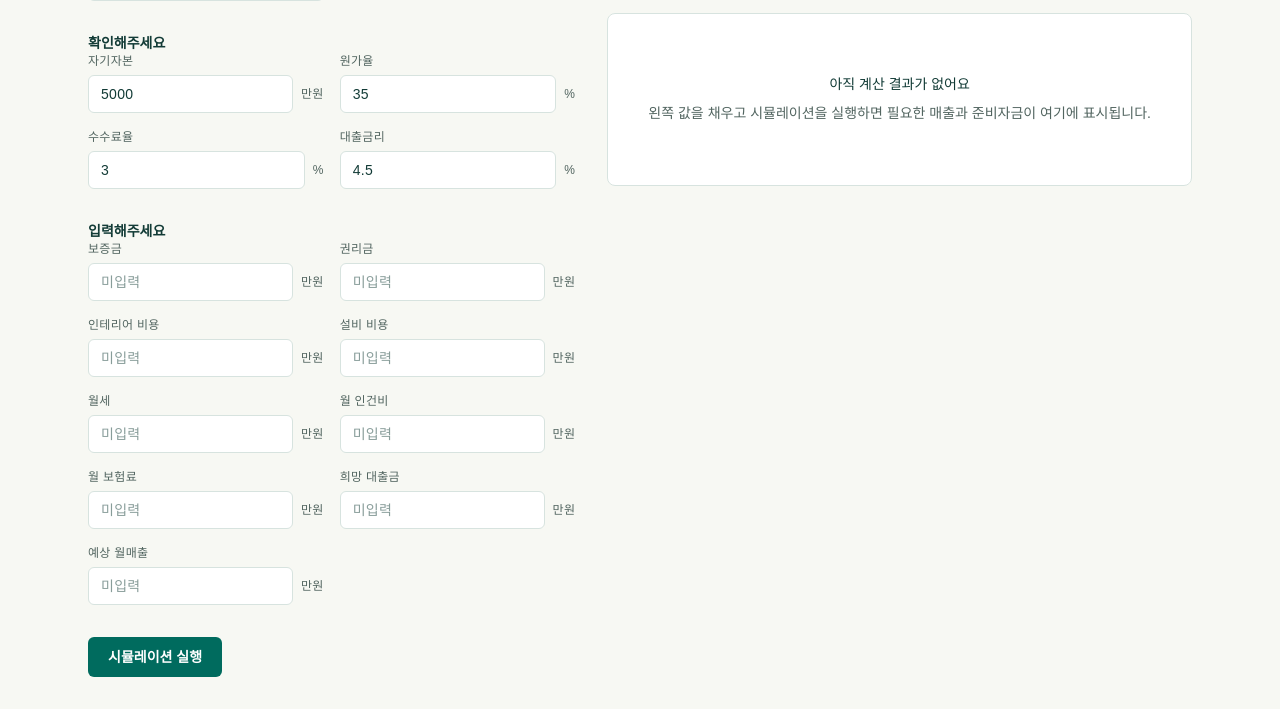
Test case: 폼을 고치고 아직 계산하지 않았으면 이전 결과임을 알리고 선택을 막는다
(page scrolled)
Click the button "시뮬레이션 실행" at (155, 657), box [88,637,222,677]
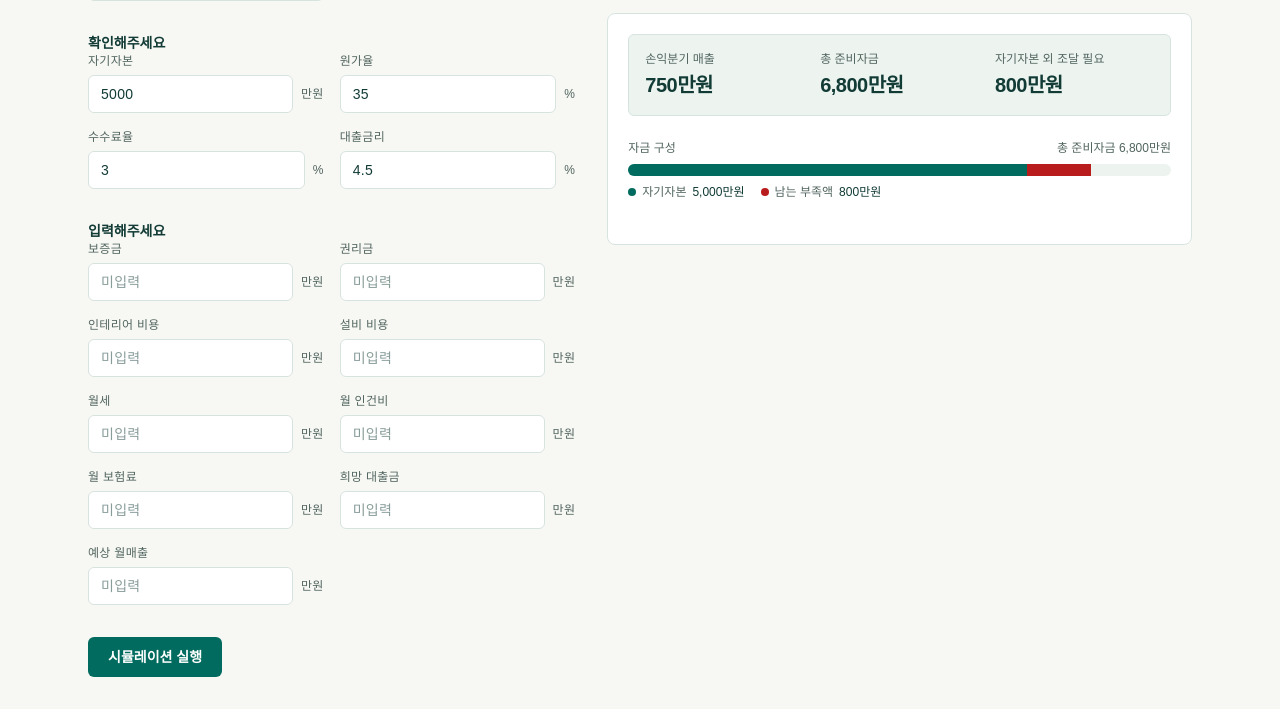
Expected: the text "자기자본 외 조달 필요" is shown, [995,52,1104,66]
Type "100" into the number field labelled "월세 만원" at (190, 434), box [88,415,293,453]
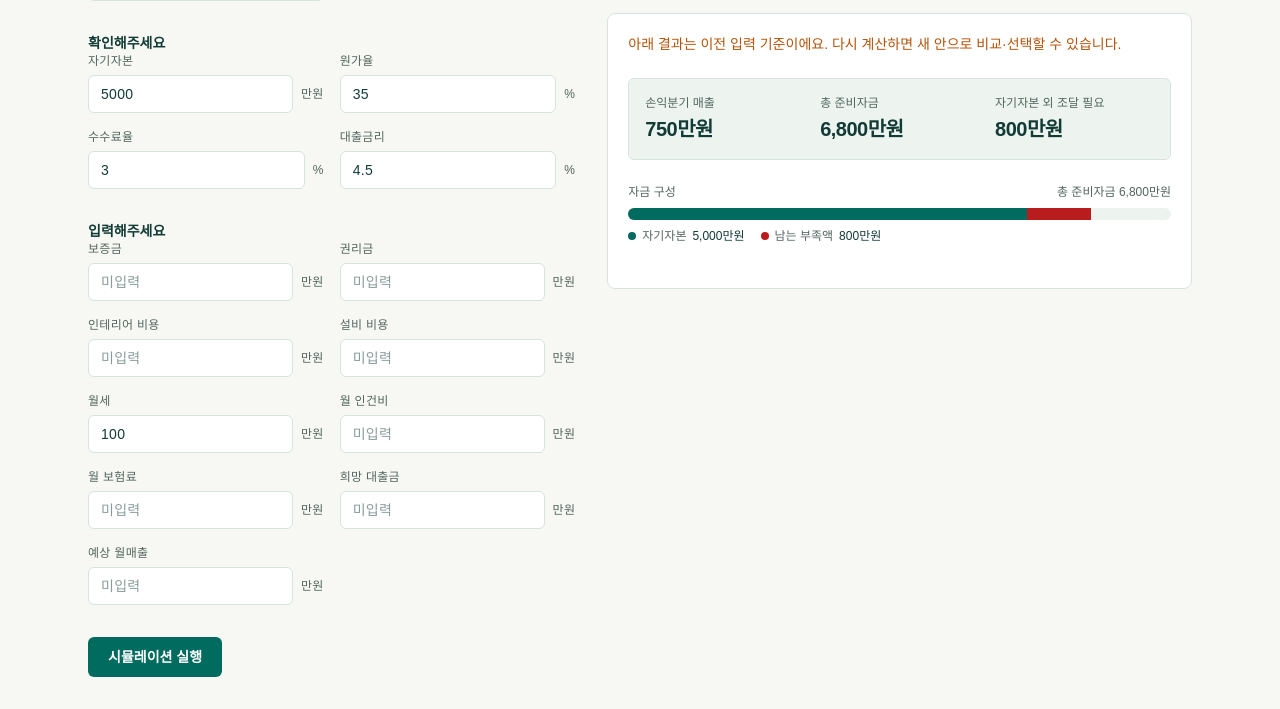
Click the button "시뮬레이션 실행" at (155, 657), box [88,637,222,677]
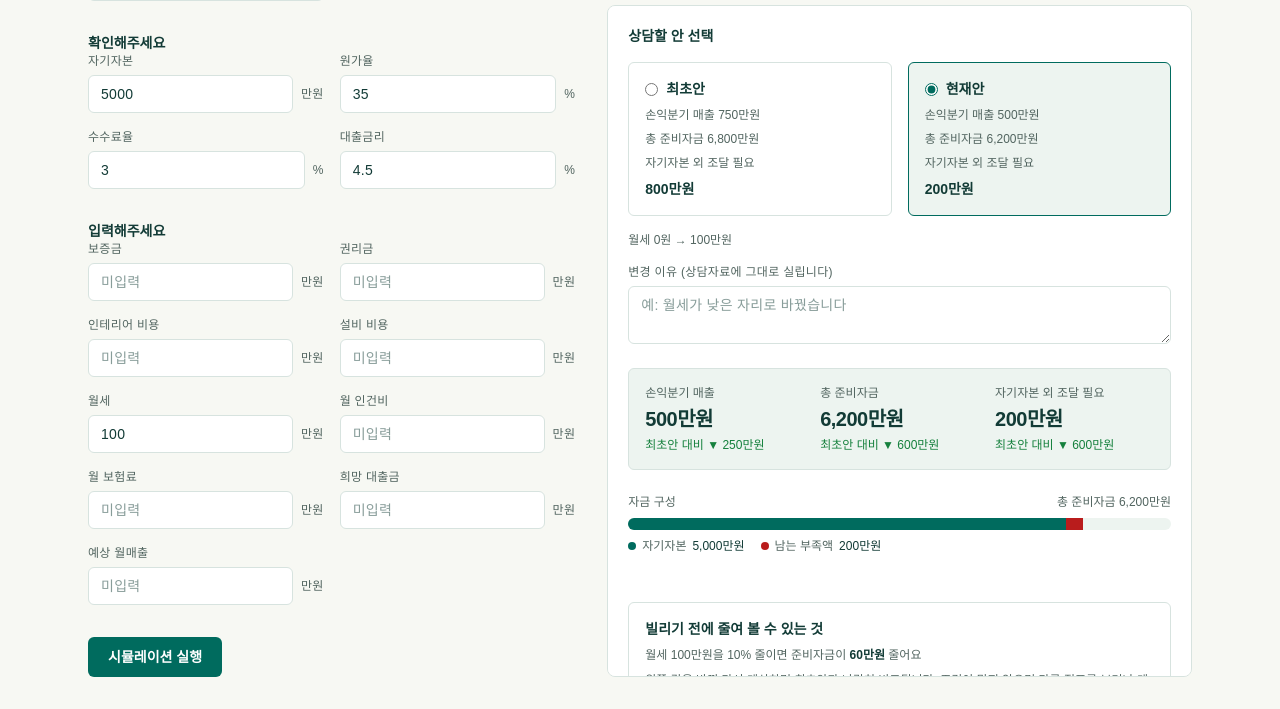
Expected: the radio button labelled "현재안 손익분기 매출 500만원 총 준비자금 6,200만원 자기자본 외 조달 필요 200만원" is checked, [925,82,938,96]
Replace the text in the number field labelled "월세 만원" with "150" at (190, 434), box [88,415,293,453]
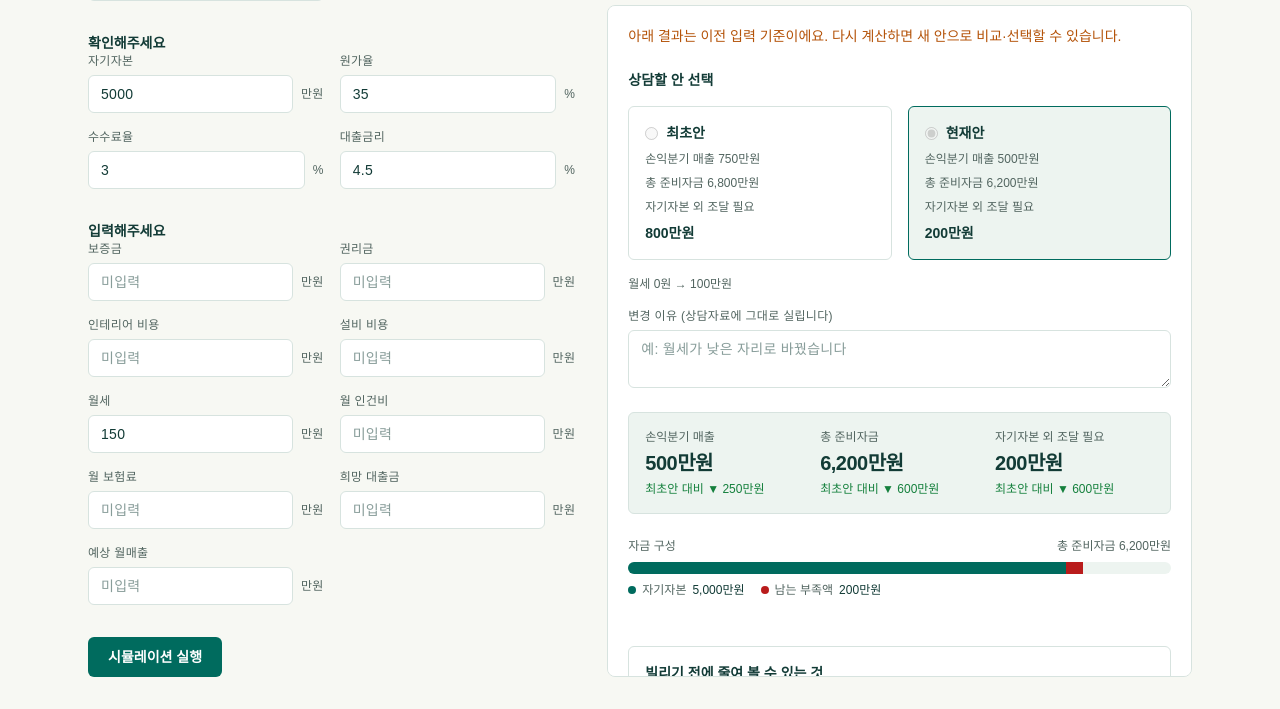
Expected: the message shows "이전 입력 기준", [628,28,1122,44]
Expected: the radio button labelled "최초안 손익분기 매출 750만원 총 준비자금 6,800만원 자기자본 외 조달 필요 800만원" is disabled, [645,126,658,140]
